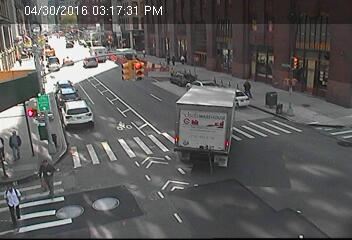neg: (166, 45, 191, 78), (33, 85, 58, 118), (99, 168, 123, 200), (75, 46, 98, 77), (114, 113, 135, 142), (126, 52, 147, 80), (187, 102, 207, 129), (85, 113, 105, 140), (290, 54, 309, 78), (204, 40, 222, 64), (267, 89, 283, 110), (17, 35, 33, 56)
pos: (3, 182, 33, 222), (32, 159, 59, 194), (2, 127, 28, 161), (237, 76, 255, 99)
